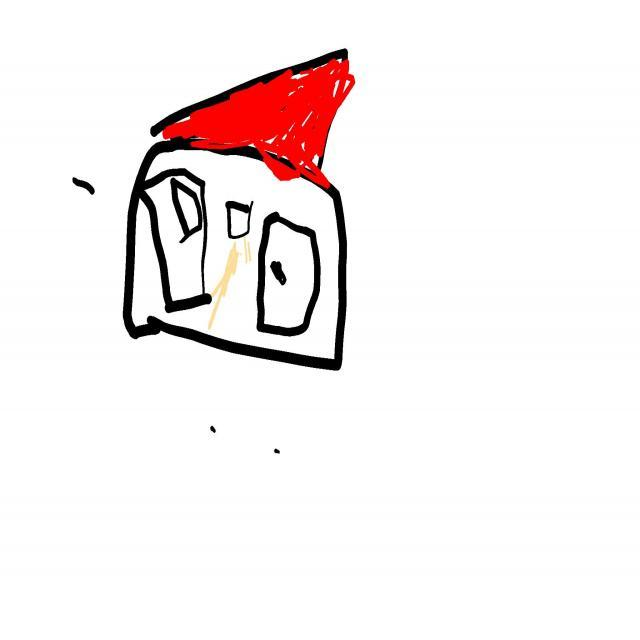door: (258, 212, 321, 336)
house: (123, 50, 356, 370)
roof: (152, 50, 355, 189)
wall: (125, 139, 345, 369)
window: (140, 168, 211, 312), (226, 202, 253, 237)
